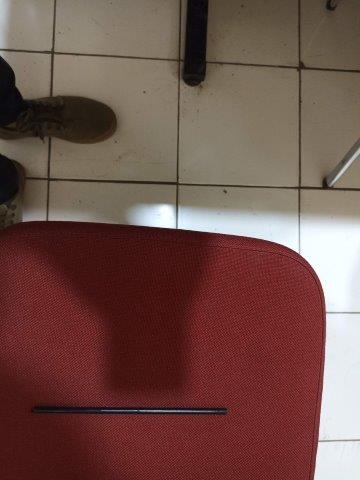sedotan: (31, 407, 228, 416)
